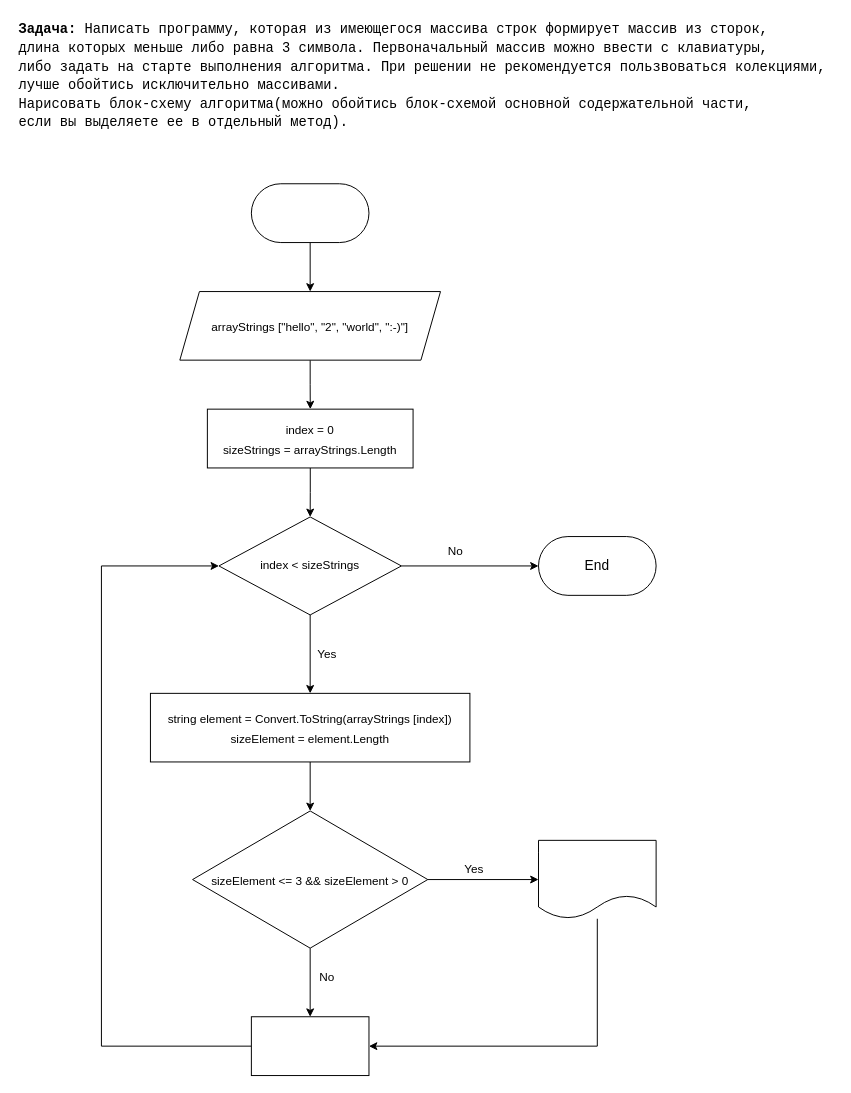
Image size: 851x1093. Some labels were removed from this diagram. The shapes that lost their labels are listed below. From the top down, each one's box as (x1, y1, x2, y2) in pixels, then its label:
(250, 183, 369, 243): Start
(538, 839, 656, 919): Print: element + " "
(250, 1016, 369, 1076): index = index + 1
